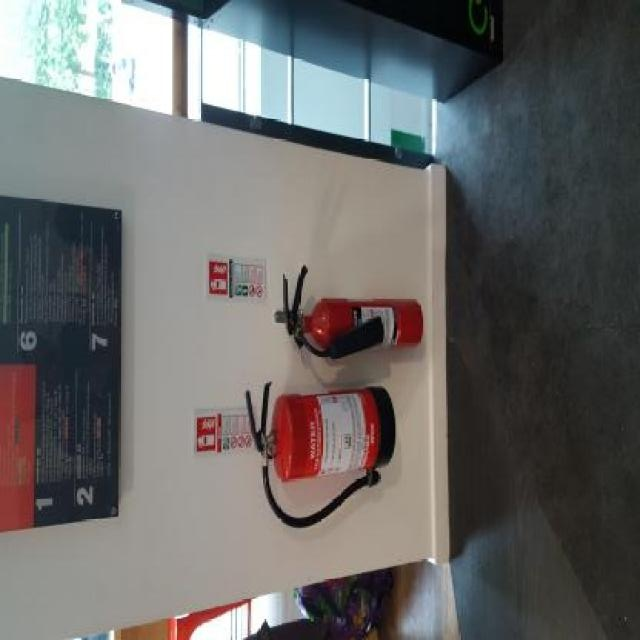fire extinguisher: (242, 379, 400, 524), (276, 281, 421, 357)
